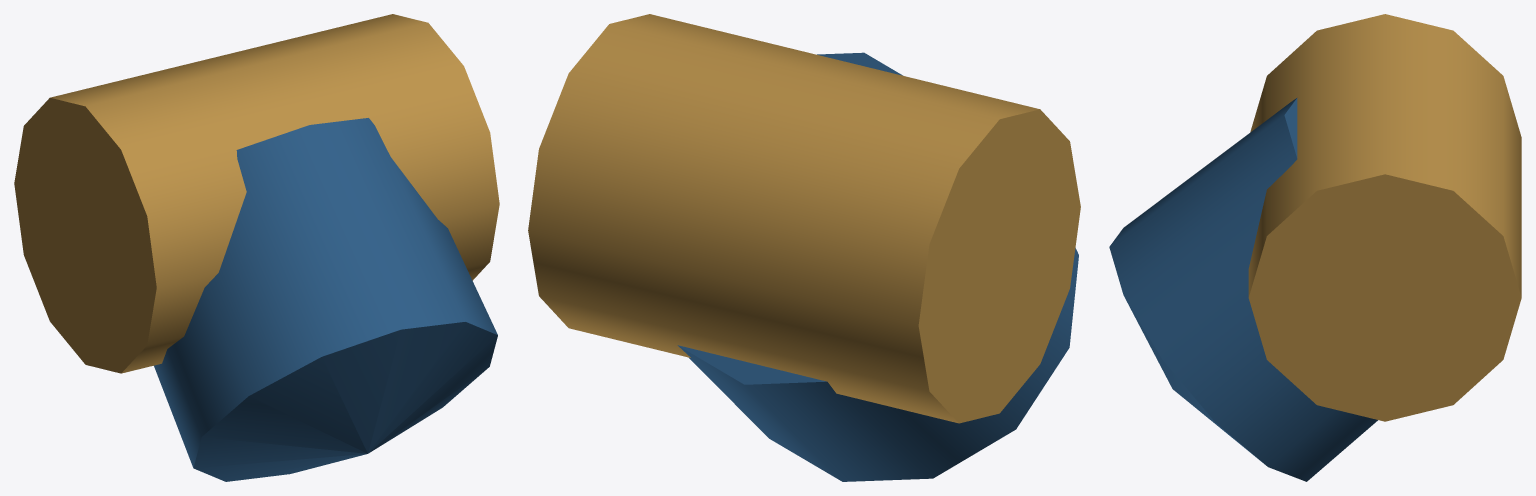
The model's file is rm2_arm_l_wrist.obj.
The picture shows the model from 3 angles, left to right: view 1: azimuth 30°, elevation 25°; view 2: azimuth 150°, elevation 25°; view 3: azimuth 270°, elevation 25°; orthographic projection. The views are drawn at different scales.
Visible parts, largest first — view 1: rm2_arm_l_wrist; view 2: rm2_arm_l_wrist; view 3: rm2_arm_l_wrist.
Boxes of the visible parts, <box> form: rm2_arm_l_wrist: <box>14,14,499,481</box>; rm2_arm_l_wrist: <box>528,14,1080,481</box>; rm2_arm_l_wrist: <box>1109,14,1521,481</box>.
Bounding box in the file's own units: 0.1 × 0.1072 × 0.1087.
